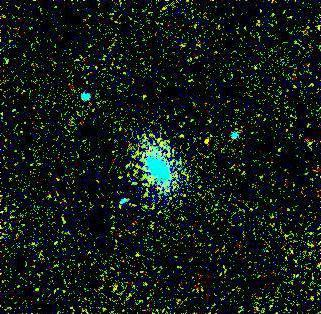star: (191, 124, 221, 154)
